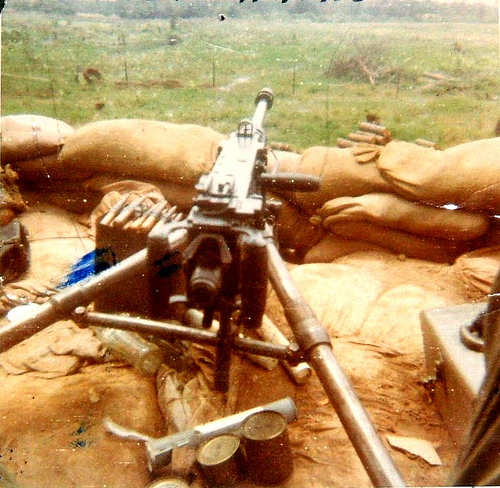rifle: (43, 77, 344, 436)
